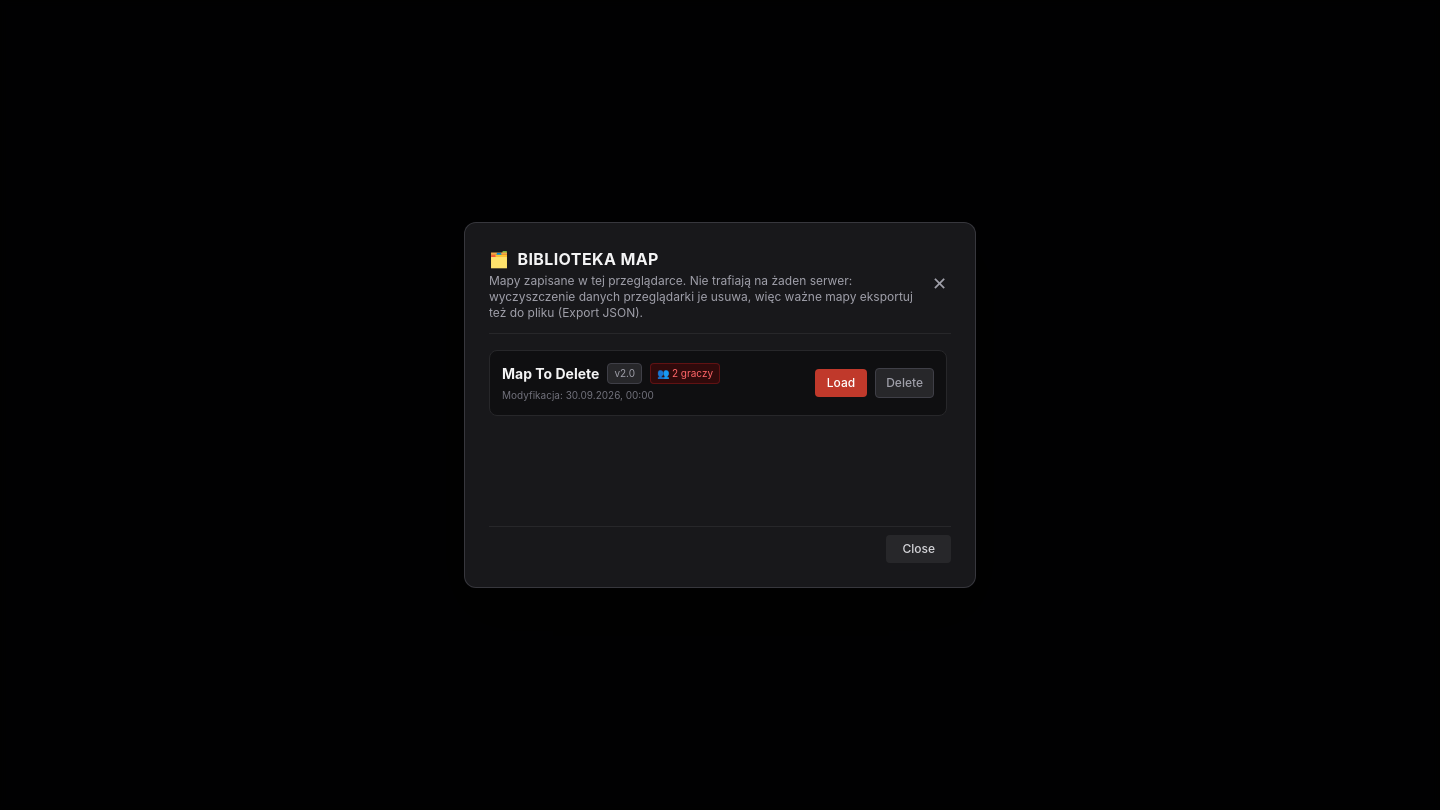
Scenario: CloudMapsModal › deletes map after confirmation when Delete button is clicked
Expected: the text "Map To Delete" is shown, [502,364,599,384]
Click the button "Delete". click: (905, 383)
box: [875,368,934,398]
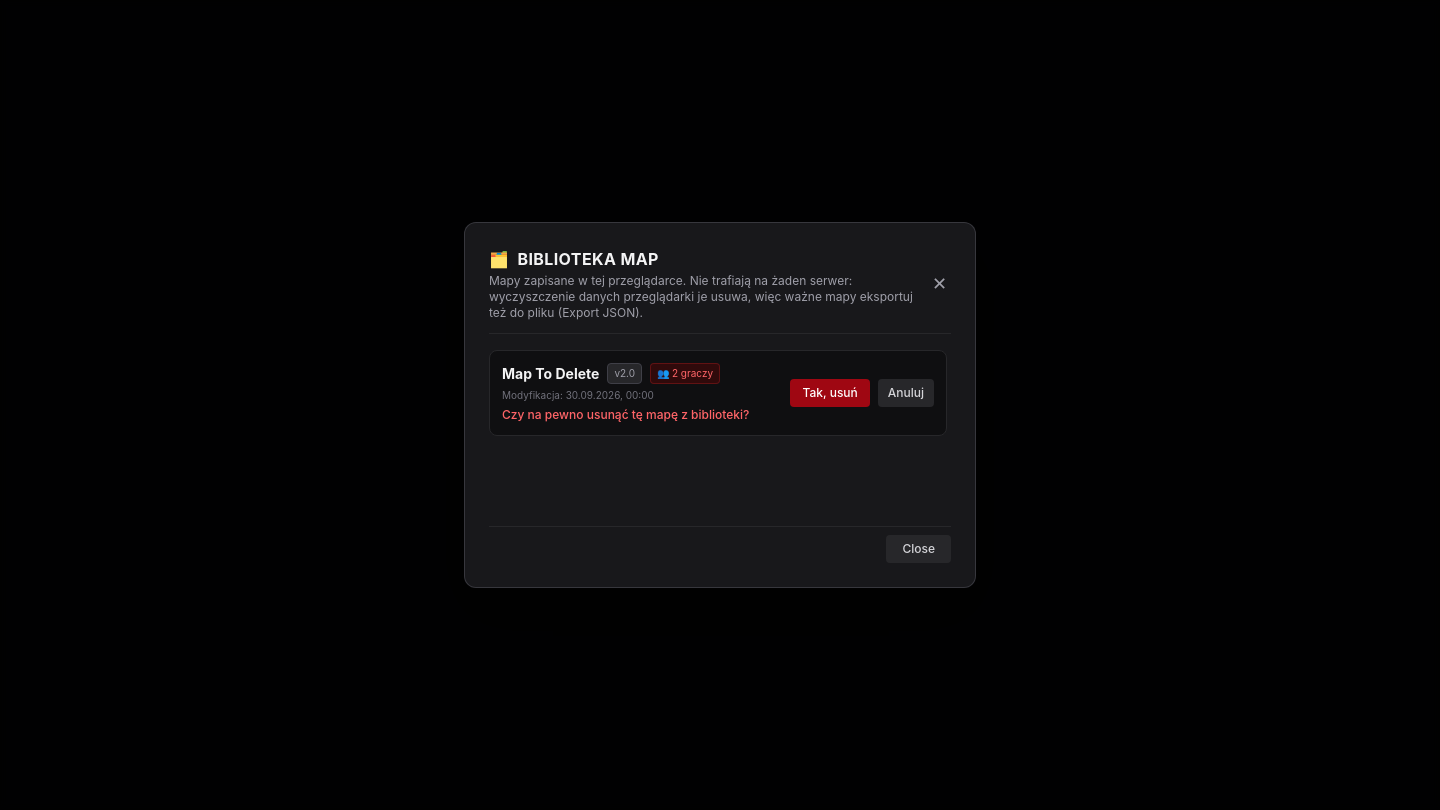
Now the text "Czy na pewno usunąć tę mapę z biblioteki?" is shown, box [502,407,778,423]
Click the button "Tak, usuń". click: (830, 393)
box: [790,379,870,407]
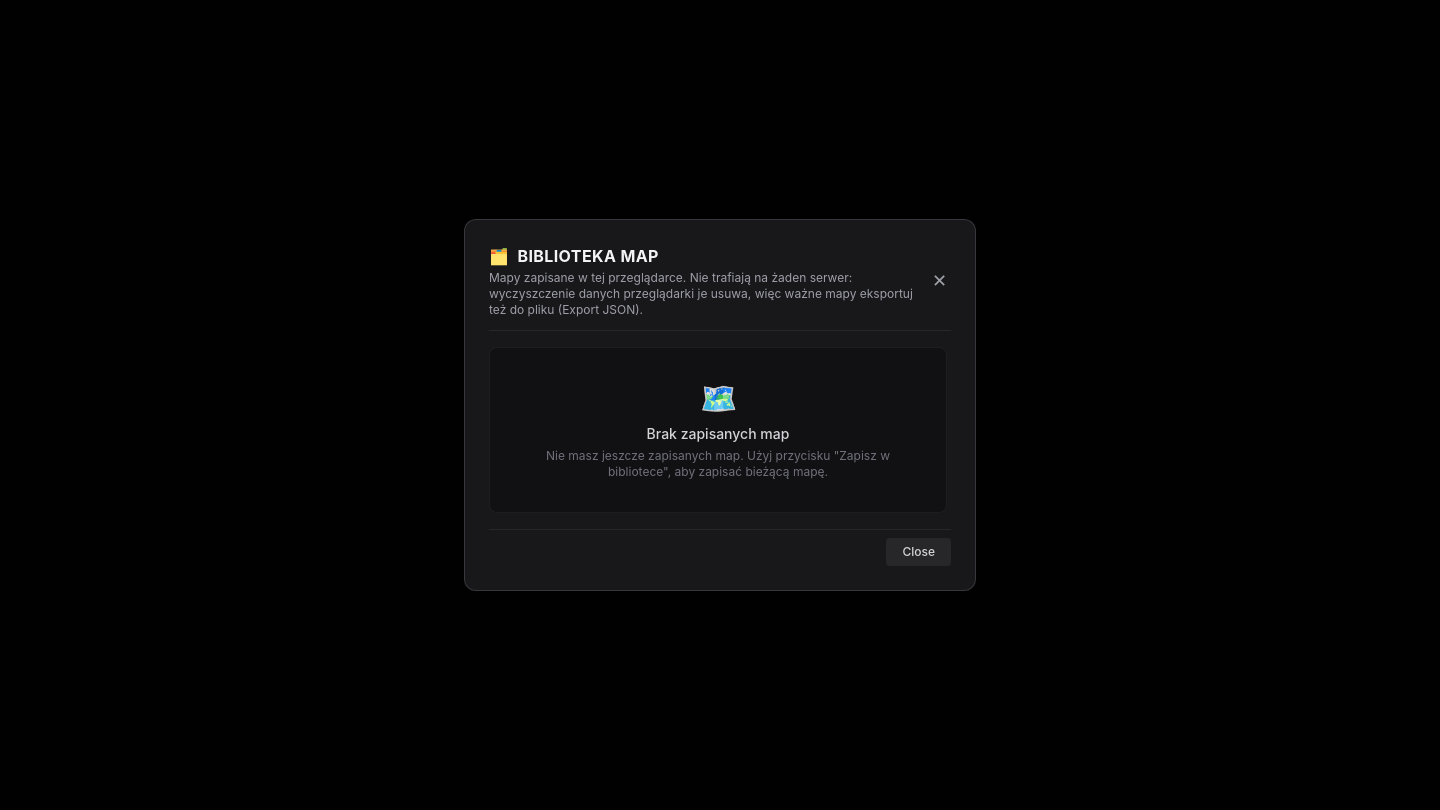
Now the text "Map To Delete" is gone
